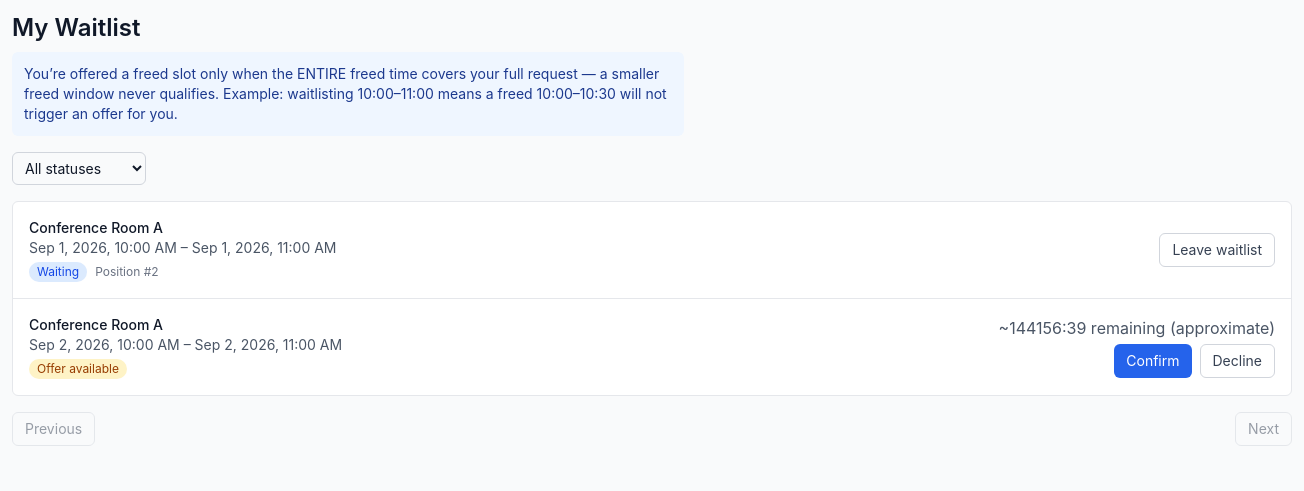
Test: MyWaitlistPage › declines an offer and shows the cascade-to-next-person outcome
The width and height of the screenshot is (1304, 491).
Click the button "Decline". click: [1237, 361]
box: [1200, 344, 1275, 378]
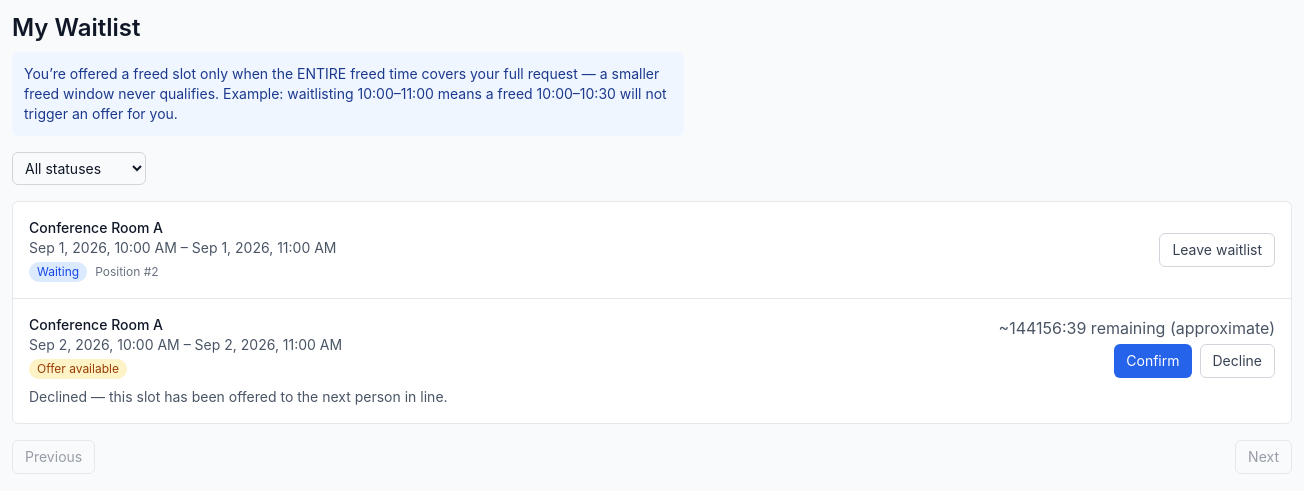
Check: the text "Declined — this slot has been offered to the next person in line." is shown, box [29, 388, 448, 405]
